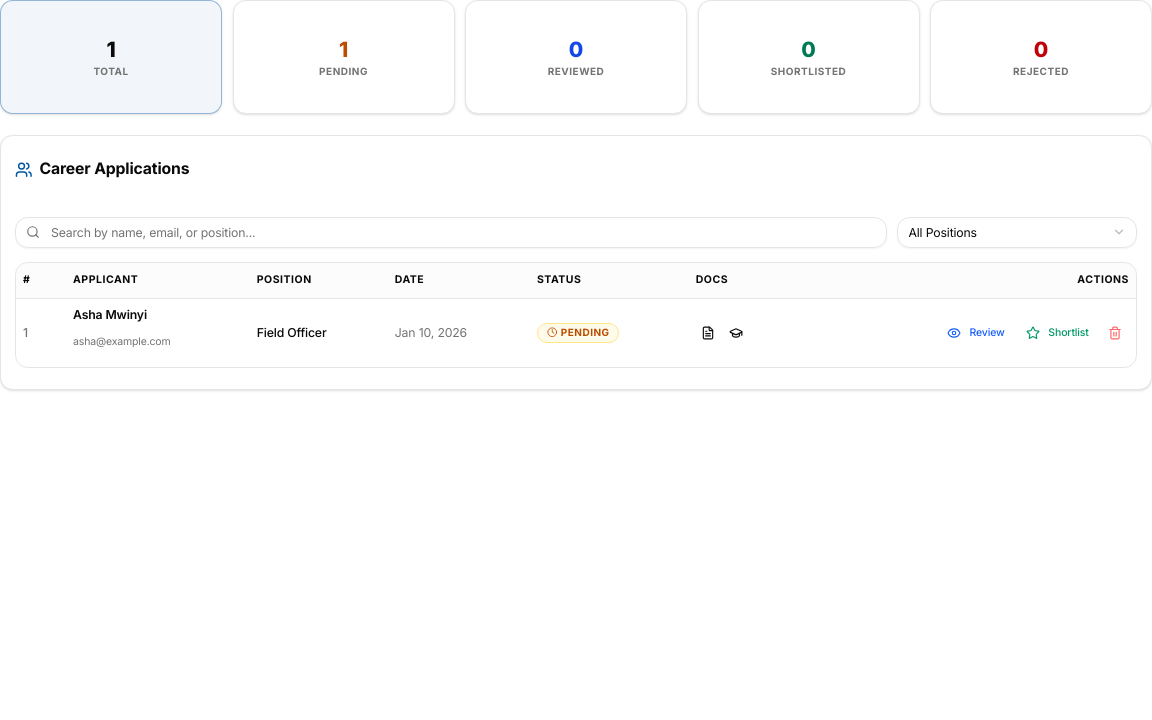
Test: HRApplicationsSubtab › opens the detail dialog when a row is clicked and shows the applicant's documents
Click the text "Asha Mwinyi" at point(110, 314), box [73, 306, 147, 322]
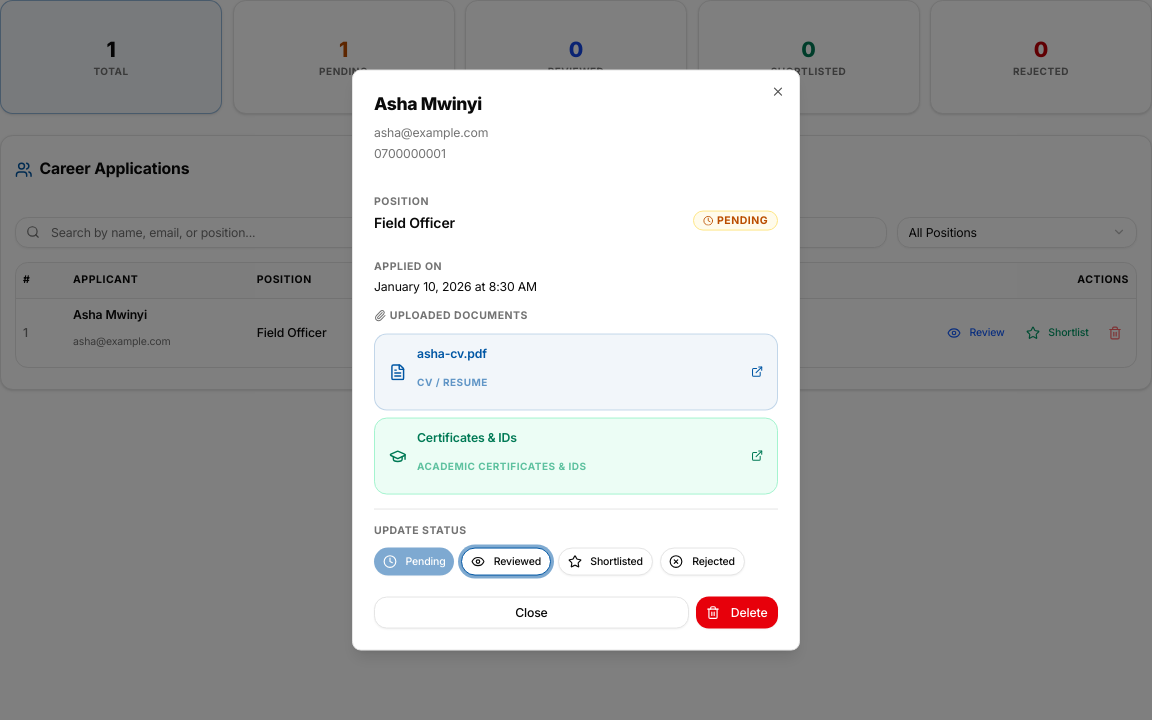
Check: the text "asha-cv.pdf" is shown, box [417, 346, 487, 361]
Check: the text "Academic Certificates & IDs" is shown, box [417, 460, 586, 472]
